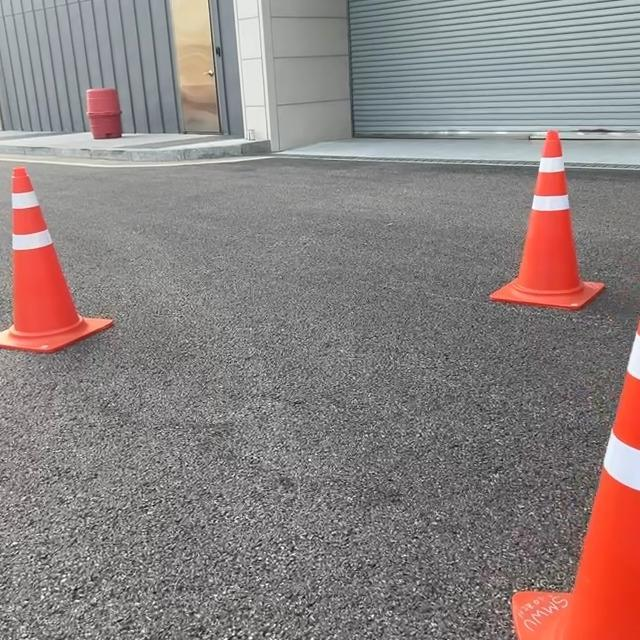fallen_object: (444, 296, 640, 640), (0, 153, 169, 396), (430, 105, 601, 315)
